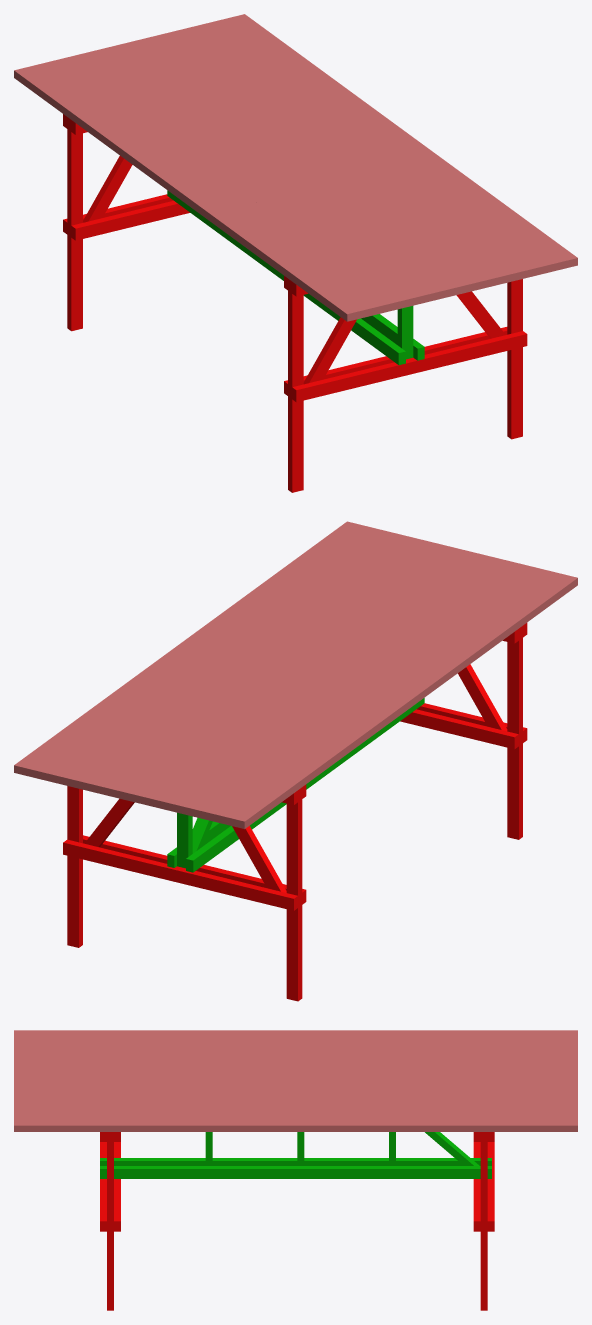
File: result.glb
3 views of the same model, one above another, from view 1: azimuth 30°, elevation 25°; view 2: azimuth 150°, elevation 25°; view 3: azimuth 270°, elevation 25° (orthographic). The views are drawn at different scales.
Visible parts, largest first — view 1: c6529328-4dad-4ad7-8286-c407330317f7__Box, 932026a4-6875-4a5b-bfe9-55bd34c76f02__undefined, 0166011b-e33b-40cd-a870-480a6253efcd__undefined, 07cdeafa-175b-47d4-8f7a-9a866a630f19__undefined, b1343b61-bb40-4626-b977-6379b088dad4__undefined, cbc80a2b-3e44-4f01-8335-3f9b974a48b7__undefined, bfc810f2-3ce8-4c0c-96fd-1037201ab18e__undefined, a51480c9-f44b-463d-a49d-92e29904bf46__undefined, 2900f3dc-b25d-4415-bf02-03d94cbd239f__undefined, 8d070d5a-d5ff-4d33-861a-14a189c74e71__undefined, 56aa4d80-7cfb-4c8f-aef2-7bdf6a4a305b__undefined, f10bba26-1645-4989-9c28-200c7d82245b__undefined (+21 smaller); view 2: c6529328-4dad-4ad7-8286-c407330317f7__Box, b1343b61-bb40-4626-b977-6379b088dad4__undefined, 07cdeafa-175b-47d4-8f7a-9a866a630f19__undefined, 0166011b-e33b-40cd-a870-480a6253efcd__undefined, 932026a4-6875-4a5b-bfe9-55bd34c76f02__undefined, f10bba26-1645-4989-9c28-200c7d82245b__undefined, 8d070d5a-d5ff-4d33-861a-14a189c74e71__undefined, 894477a8-6c9b-4d2c-8fbc-d96a79659c88__undefined, 2900f3dc-b25d-4415-bf02-03d94cbd239f__undefined, ae917317-c4c6-43a2-acb3-e1da40ded2fe__undefined, d3a2552b-81b5-4999-9c75-53933d7432b0__undefined, 56aa4d80-7cfb-4c8f-aef2-7bdf6a4a305b__undefined (+20 smaller); view 3: 4706078b-55f9-4a6d-aaca-142ede5d1f8e__undefined, b2ab5a14-ef15-417f-a563-ef8f2d428f52__strutH, f10bba26-1645-4989-9c28-200c7d82245b__undefined, 932026a4-6875-4a5b-bfe9-55bd34c76f02__undefined, 56aa4d80-7cfb-4c8f-aef2-7bdf6a4a305b__undefined, cbc80a2b-3e44-4f01-8335-3f9b974a48b7__undefined, 2900f3dc-b25d-4415-bf02-03d94cbd239f__undefined, ae917317-c4c6-43a2-acb3-e1da40ded2fe__undefined, b845c5fe-edaa-4712-ac8b-55c4344230de__undefined, c6529328-4dad-4ad7-8286-c407330317f7__Box, 07cdeafa-175b-47d4-8f7a-9a866a630f19__undefined, 8d070d5a-d5ff-4d33-861a-14a189c74e71__undefined (+17 smaller).
Part boxes in pixels (bbox=[...]): c6529328-4dad-4ad7-8286-c407330317f7__Box: bbox=[14, 67, 358, 321]; 932026a4-6875-4a5b-bfe9-55bd34c76f02__undefined: bbox=[49, 59, 393, 313]; 0166011b-e33b-40cd-a870-480a6253efcd__undefined: bbox=[176, 28, 520, 282]; 07cdeafa-175b-47d4-8f7a-9a866a630f19__undefined: bbox=[26, 65, 370, 318]; b1343b61-bb40-4626-b977-6379b088dad4__undefined: bbox=[153, 34, 497, 287]; cbc80a2b-3e44-4f01-8335-3f9b974a48b7__undefined: bbox=[95, 48, 439, 301]; bfc810f2-3ce8-4c0c-96fd-1037201ab18e__undefined: bbox=[129, 39, 473, 293]; a51480c9-f44b-463d-a49d-92e29904bf46__undefined: bbox=[210, 19, 554, 273]; 2900f3dc-b25d-4415-bf02-03d94cbd239f__undefined: bbox=[141, 36, 485, 290]; 8d070d5a-d5ff-4d33-861a-14a189c74e71__undefined: bbox=[60, 56, 404, 310]; 56aa4d80-7cfb-4c8f-aef2-7bdf6a4a305b__undefined: bbox=[83, 50, 427, 304]; f10bba26-1645-4989-9c28-200c7d82245b__undefined: bbox=[37, 62, 381, 315]; c6529328-4dad-4ad7-8286-c407330317f7__Box: bbox=[233, 575, 577, 828]; b1343b61-bb40-4626-b977-6379b088dad4__undefined: bbox=[94, 541, 438, 795]; 07cdeafa-175b-47d4-8f7a-9a866a630f19__undefined: bbox=[221, 572, 565, 826]; 0166011b-e33b-40cd-a870-480a6253efcd__undefined: bbox=[71, 535, 415, 789]; 932026a4-6875-4a5b-bfe9-55bd34c76f02__undefined: bbox=[198, 566, 542, 820]; f10bba26-1645-4989-9c28-200c7d82245b__undefined: bbox=[210, 569, 554, 823]; 8d070d5a-d5ff-4d33-861a-14a189c74e71__undefined: bbox=[187, 563, 531, 817]; 894477a8-6c9b-4d2c-8fbc-d96a79659c88__undefined: bbox=[141, 552, 485, 806]; 2900f3dc-b25d-4415-bf02-03d94cbd239f__undefined: bbox=[106, 544, 450, 797]; ae917317-c4c6-43a2-acb3-e1da40ded2fe__undefined: bbox=[60, 533, 404, 786]; d3a2552b-81b5-4999-9c75-53933d7432b0__undefined: bbox=[175, 561, 519, 814]; 56aa4d80-7cfb-4c8f-aef2-7bdf6a4a305b__undefined: bbox=[164, 558, 508, 812]; 4706078b-55f9-4a6d-aaca-142ede5d1f8e__undefined: bbox=[14, 1120, 577, 1131]; b2ab5a14-ef15-417f-a563-ef8f2d428f52__strutH: bbox=[100, 1166, 491, 1178]; f10bba26-1645-4989-9c28-200c7d82245b__undefined: bbox=[14, 1039, 577, 1044]; 932026a4-6875-4a5b-bfe9-55bd34c76f02__undefined: bbox=[14, 1044, 577, 1049]; 56aa4d80-7cfb-4c8f-aef2-7bdf6a4a305b__undefined: bbox=[14, 1058, 577, 1063]; cbc80a2b-3e44-4f01-8335-3f9b974a48b7__undefined: bbox=[14, 1063, 577, 1068]; 2900f3dc-b25d-4415-bf02-03d94cbd239f__undefined: bbox=[14, 1082, 577, 1087]; ae917317-c4c6-43a2-acb3-e1da40ded2fe__undefined: bbox=[14, 1101, 577, 1106]; b845c5fe-edaa-4712-ac8b-55c4344230de__undefined: bbox=[14, 1106, 577, 1111]; c6529328-4dad-4ad7-8286-c407330317f7__Box: bbox=[14, 1030, 577, 1034]; 07cdeafa-175b-47d4-8f7a-9a866a630f19__undefined: bbox=[14, 1035, 577, 1039]; 8d070d5a-d5ff-4d33-861a-14a189c74e71__undefined: bbox=[14, 1049, 577, 1053].
Size of the model in its own units: 800 by 725 by 2000.
